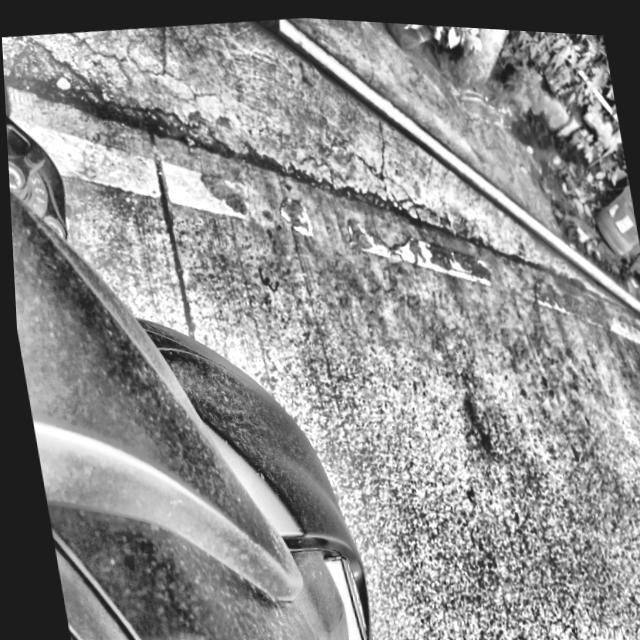no_or_faded_road_markings: (22, 94, 489, 284)
